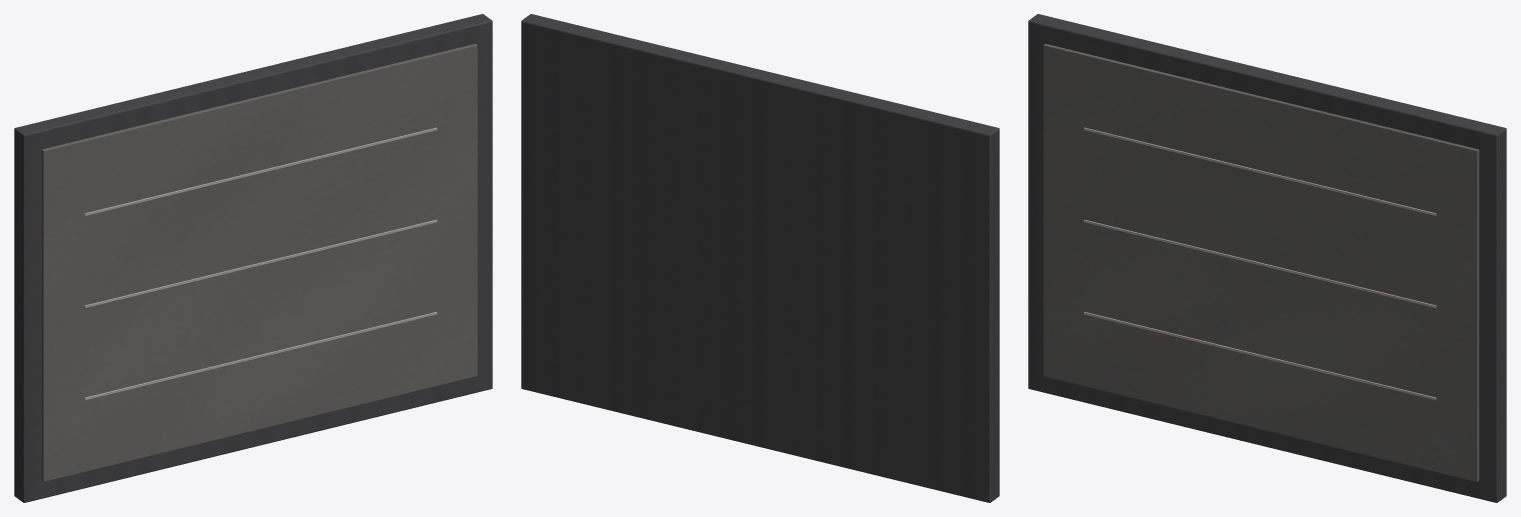
Rendered from blueprint_panel.glb.
The picture shows the model from 3 angles, left to right: view 1: azimuth 30°, elevation 25°; view 2: azimuth 150°, elevation 25°; view 3: azimuth 330°, elevation 25°; orthographic projection.
Parts seen in each view (by area): view 1: blueprint, panel.003, diagram_line, diagram_line.001, diagram_line.002; view 2: panel.003; view 3: blueprint, panel.003, diagram_line, diagram_line.001, diagram_line.002.
Boxes of the visible parts, x1,y1,x2,y2 form: blueprint: (41, 43, 477, 481); panel.003: (14, 14, 492, 502); diagram_line: (84, 312, 437, 400); diagram_line.001: (84, 219, 437, 308); diagram_line.002: (84, 127, 437, 215); panel.003: (521, 14, 999, 502); blueprint: (1043, 43, 1479, 481); panel.003: (1028, 14, 1506, 502); diagram_line: (1083, 312, 1436, 400); diagram_line.001: (1083, 219, 1436, 308); diagram_line.002: (1083, 127, 1436, 215).
Size of the model in its own units: 1.6 by 1.2 by 0.076.
Materials: 3 (3 with a texture image).
